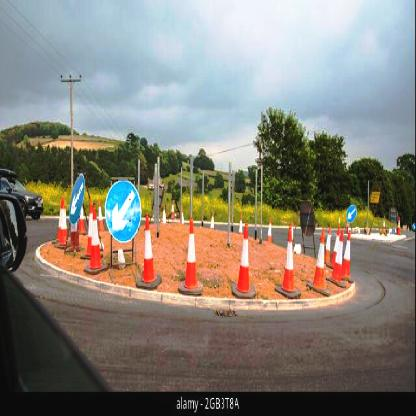Keep left: (103, 169, 142, 246), (70, 166, 88, 226), (346, 197, 358, 223)
